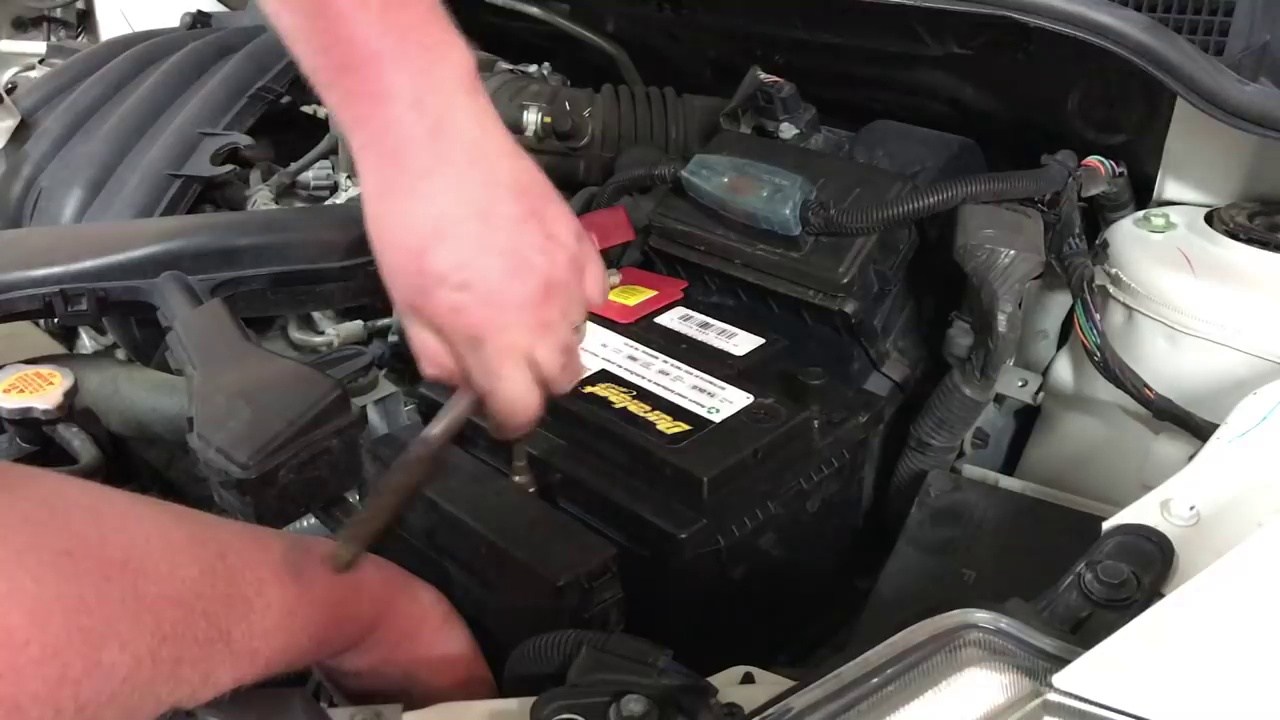battery: (442, 252, 837, 480)
pos_touched: (526, 196, 680, 342)
